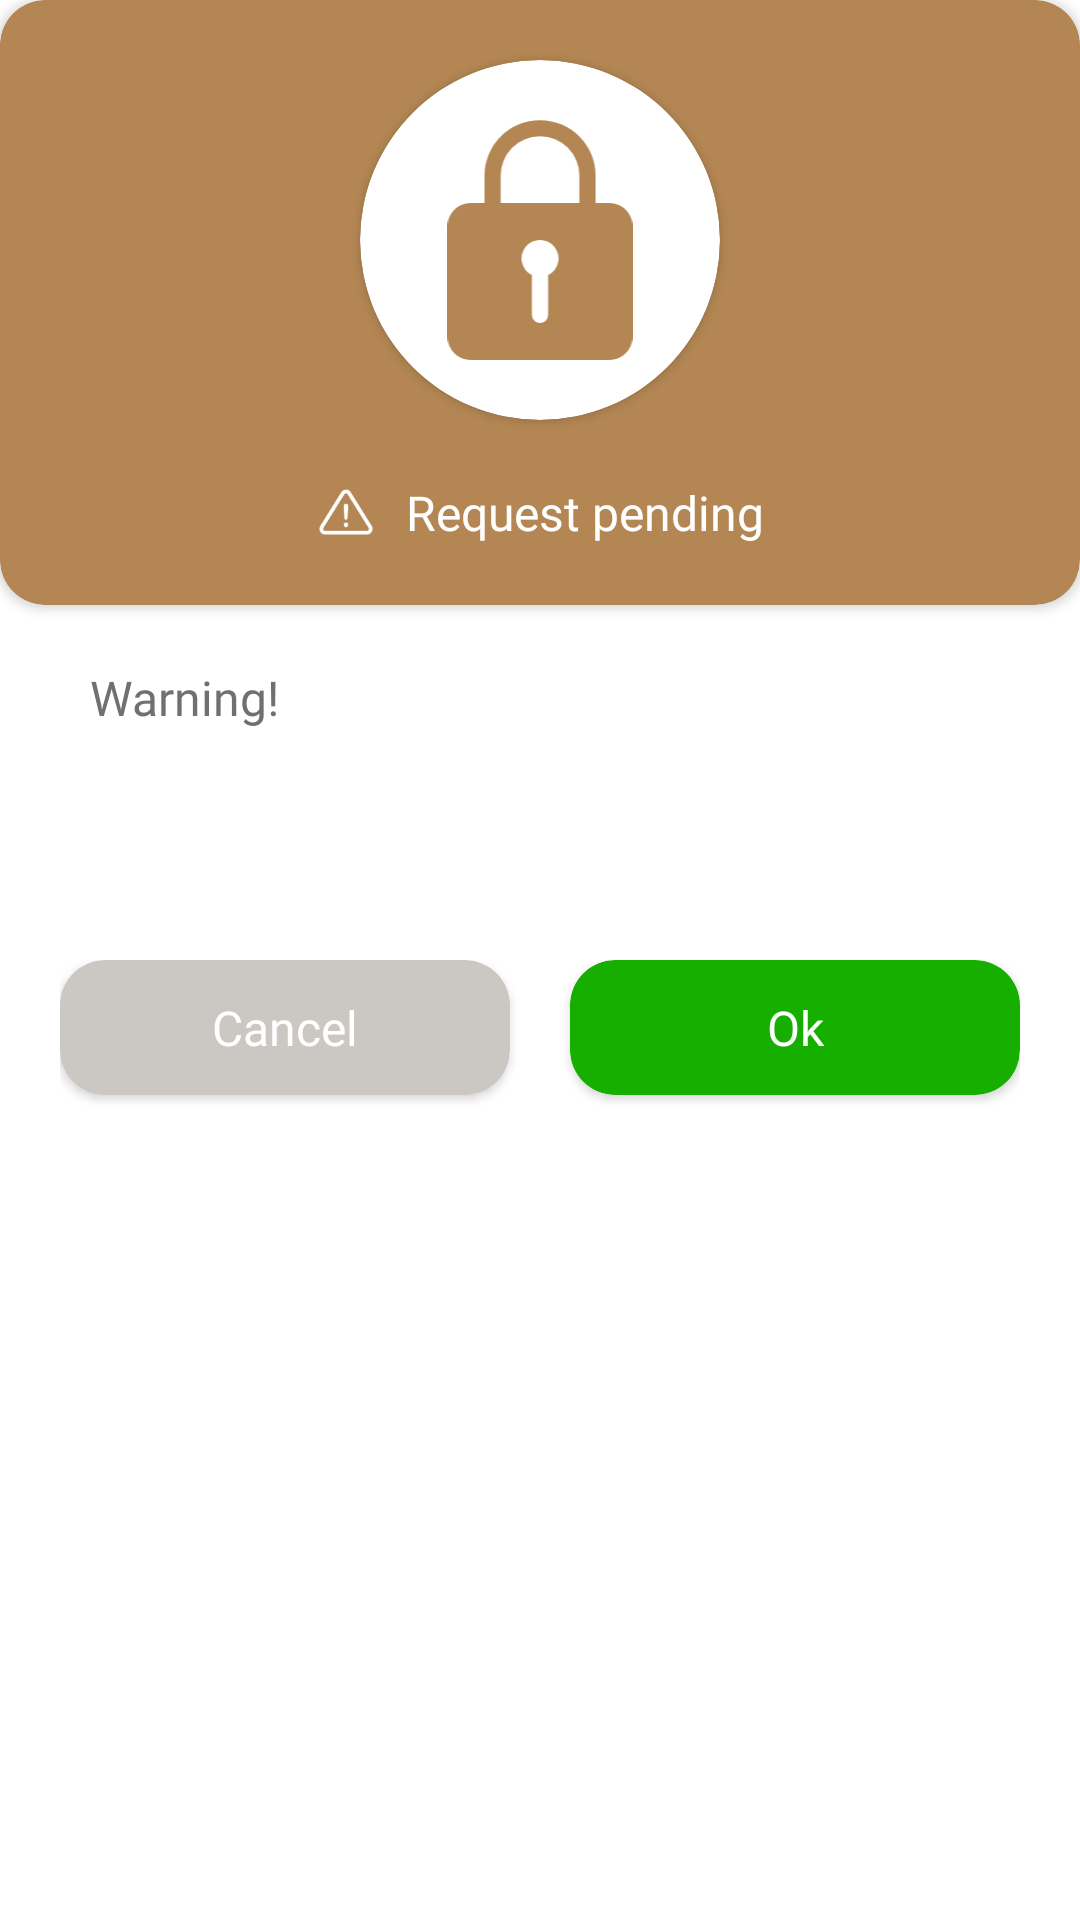

Screen size 1080x1920. Icon name, then its box in pixels as (x1, y1, x2, y2):
lock: (360, 60, 720, 420)
